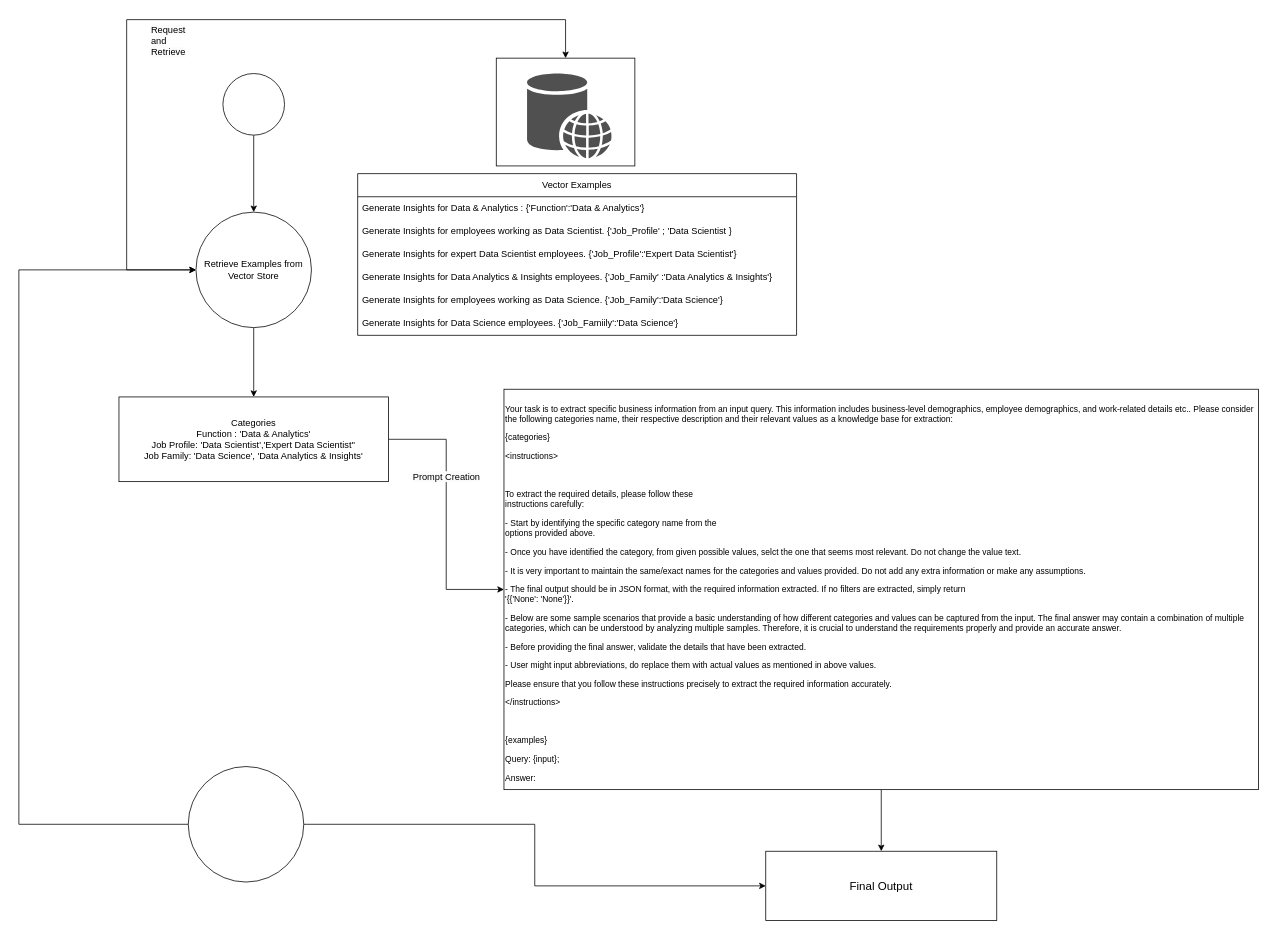
The diagram is 1272 pixels wide and 934 high, and some of its shapes have lost their labels. Here are the shapes that lost their labels. From the top down, the centre of each, then its label:
At point (253, 104): "User Input".
At point (245, 824): "OpenAI Service".
